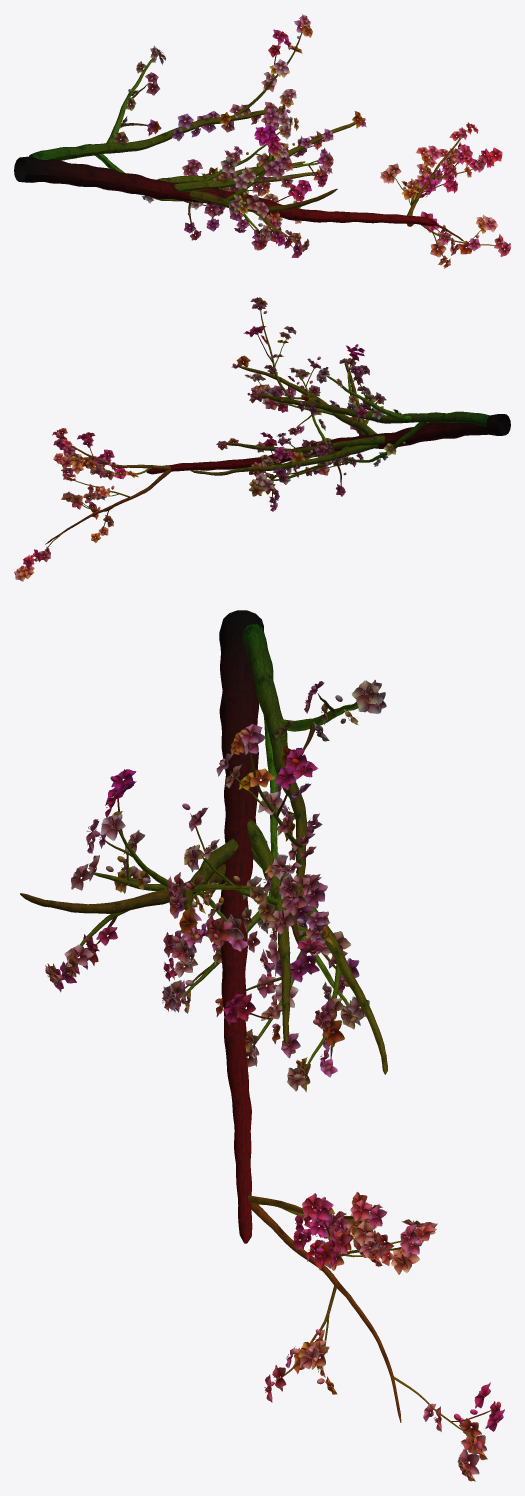
Rendered from blossom_branch.opt.glb.
3 renders of one model, top to bottom at view 1: azimuth 30°, elevation 25°; view 2: azimuth 150°, elevation 25°; view 3: azimuth 270°, elevation 25°, orthographic. The views are drawn at different scales.
Visible parts, largest first — view 1: Blossoms, Bark, Stamens; view 2: Bark, Blossoms; view 3: Blossoms, Bark, Stamens.
Boxes of the visible parts, left/top/right/bottom form: Blossoms: left=113, top=14, right=510, bottom=268; Bark: left=14, top=32, right=497, bottom=260; Stamens: left=119, top=18, right=507, bottom=262; Bark: left=33, top=303, right=510, bottom=560; Blossoms: left=14, top=297, right=405, bottom=581; Blossoms: left=45, top=680, right=504, bottom=1481; Bark: left=20, top=610, right=492, bottom=1454; Stamens: left=47, top=684, right=494, bottom=1475.
Size of the model in its own units: 4.93 by 3.13 by 2.38.
3 materials, 3 textured.
